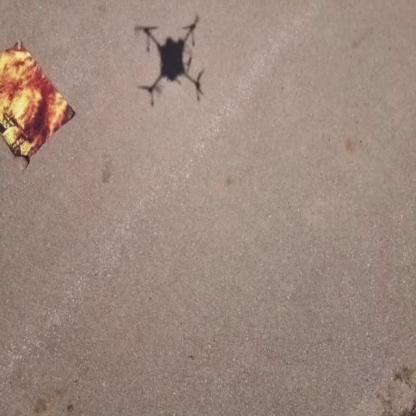fire-poster: (0, 38, 76, 169)
